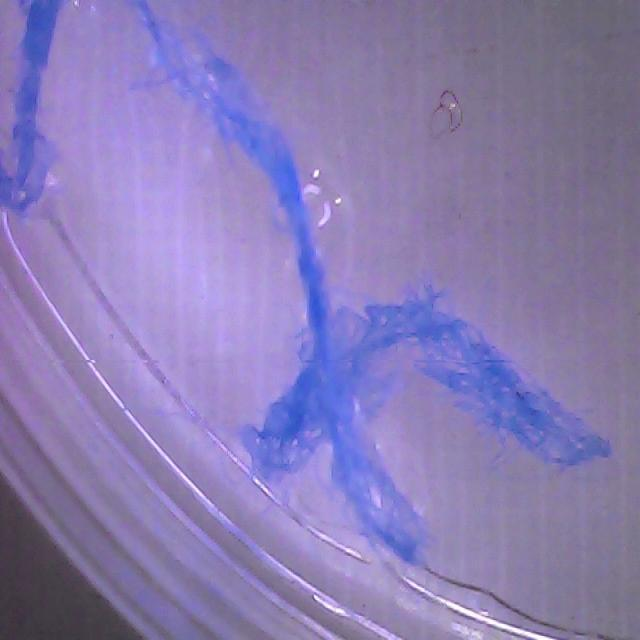fibers: (136, 0, 438, 589)
